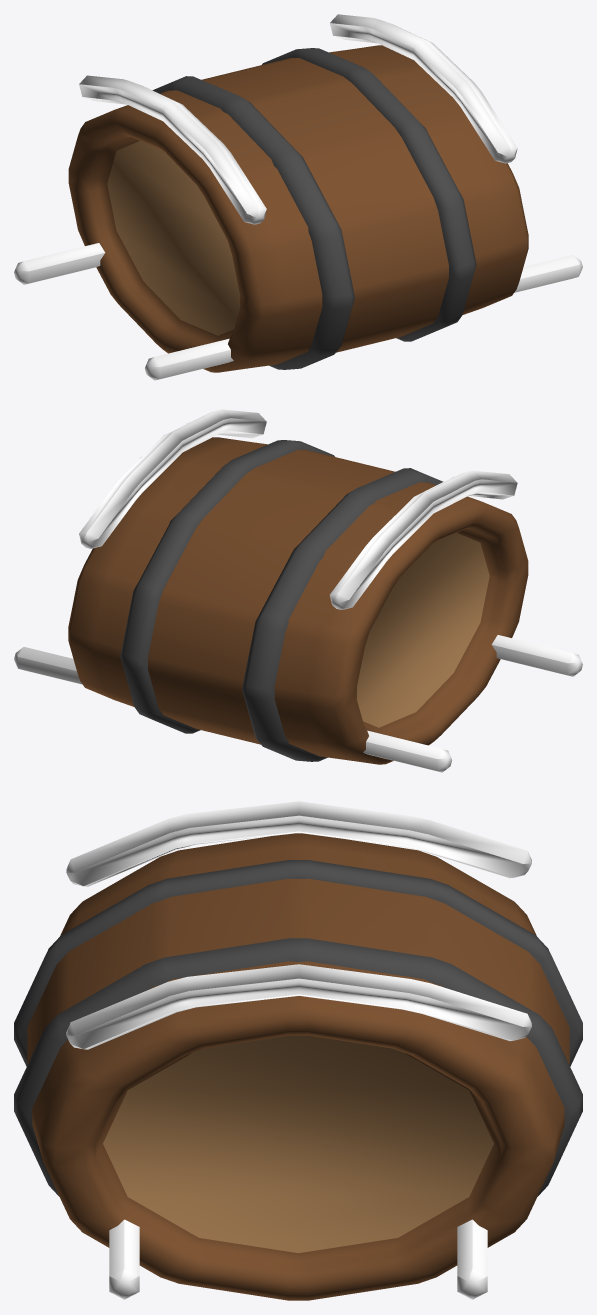
The model's file is chassis.003.glb.
3 renders of one model, top to bottom at view 1: azimuth 30°, elevation 25°; view 2: azimuth 150°, elevation 25°; view 3: azimuth 270°, elevation 25°, orthographic. The views are drawn at different scales.
Parts seen in each view (by area): view 1: chassis.003; view 2: chassis.003; view 3: chassis.003.
Part boxes in pixels (box(x1,y1,x2,y2)): chassis.003: box(14, 14, 582, 380); chassis.003: box(14, 409, 582, 772); chassis.003: box(14, 801, 582, 1300).
Bounding box in the file's own units: 3.29 × 1.91 × 2.82.
